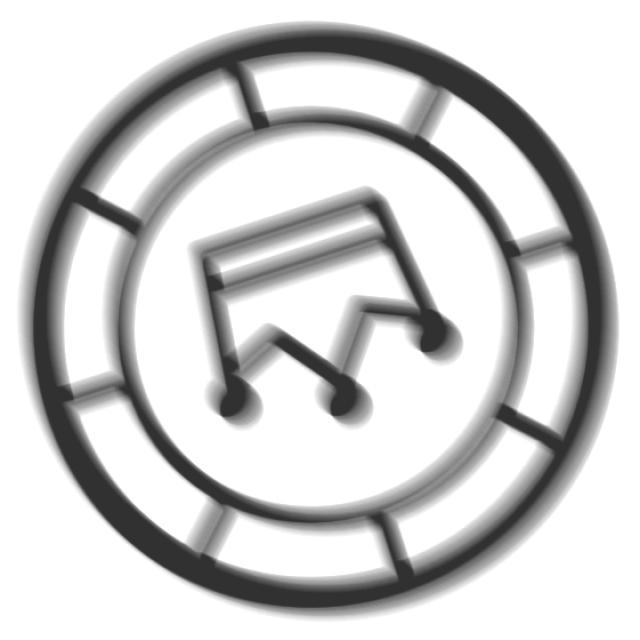coin: (16, 16, 625, 627)
